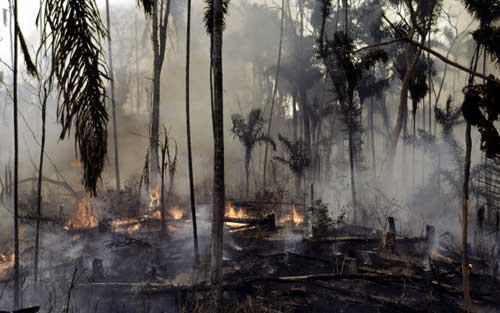fire: (115, 201, 188, 231), (71, 199, 105, 232), (224, 198, 251, 229), (275, 206, 308, 224), (2, 249, 18, 275)
